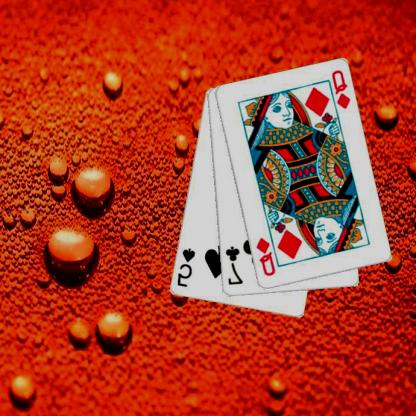5S: (176, 246, 198, 289)
7C: (224, 244, 245, 286)
QD: (330, 67, 353, 111), (255, 235, 278, 278)
